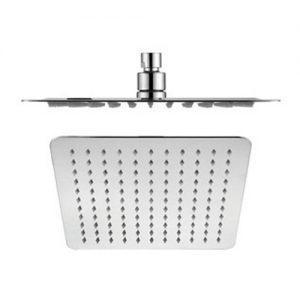Ducha: (27, 16, 280, 267)
